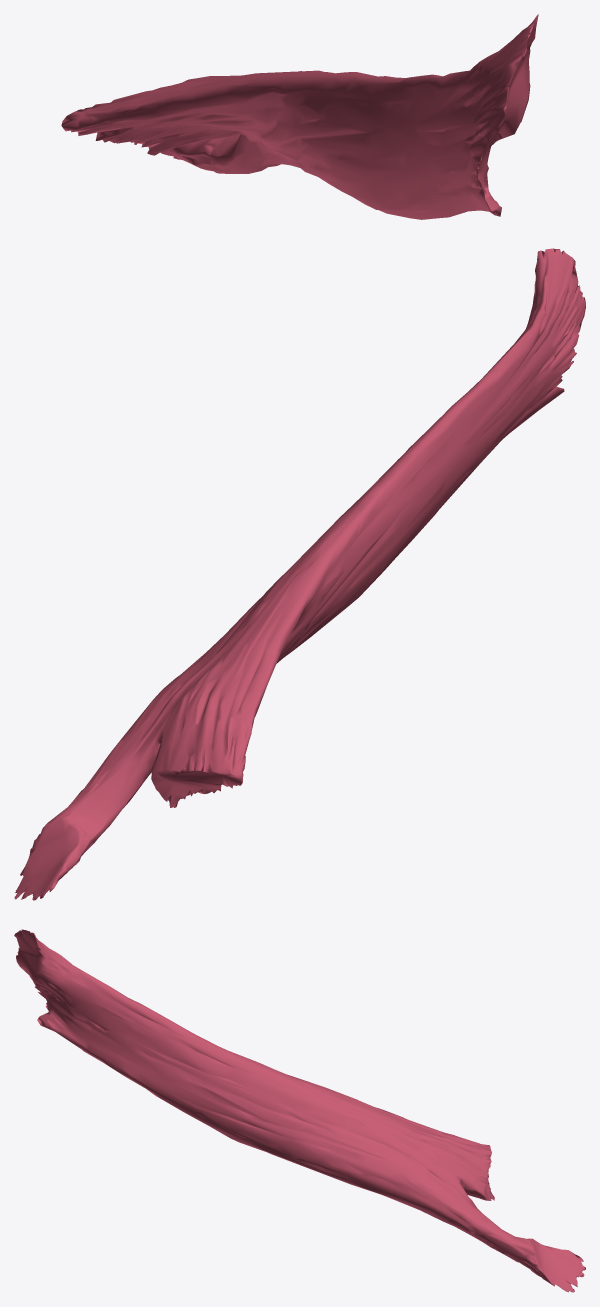
The picture shows the model from 3 angles, top to bottom: view 1: azimuth 30°, elevation 25°; view 2: azimuth 150°, elevation 25°; view 3: azimuth 270°, elevation 25°; orthographic projection. The views are drawn at different scales.
Visible parts, largest first — view 1: 右侧胸锁乳突肌; view 2: 右侧胸锁乳突肌; view 3: 右侧胸锁乳突肌.
Boxes of the visible parts, bbox=[...] form: 右侧胸锁乳突肌: bbox=[61, 14, 538, 219]; 右侧胸锁乳突肌: bbox=[14, 248, 585, 900]; 右侧胸锁乳突肌: bbox=[14, 929, 585, 1292].
Size of the model in its own units: 0.0851 by 0.1675 by 0.2854.
